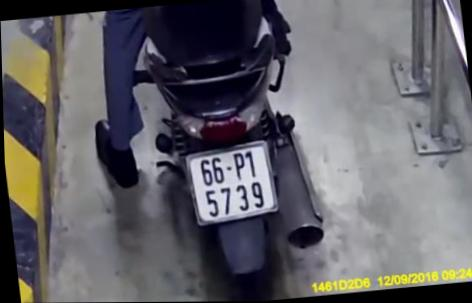LP: (182, 139, 280, 227)
